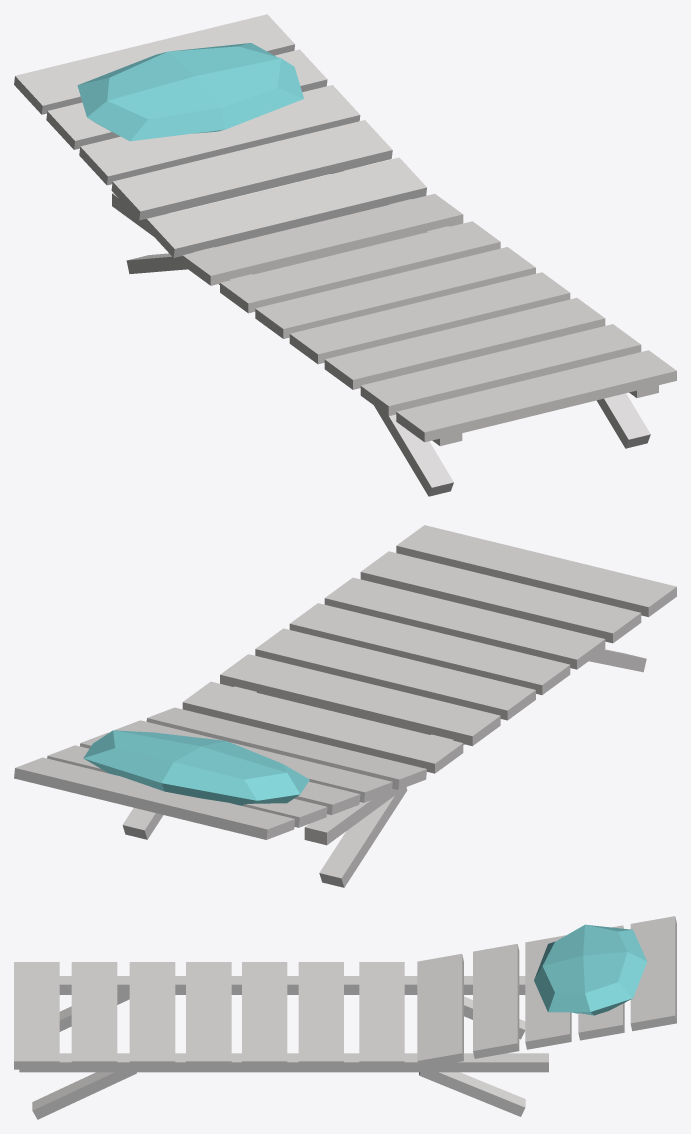
File: O_Enviroment_LoungeChair_1.fbx
3 views of the same model, one above another, from view 1: azimuth 30°, elevation 25°; view 2: azimuth 150°, elevation 25°; view 3: azimuth 270°, elevation 25° (orthographic). The views are drawn at different scales.
Parts seen in each view (by area): view 1: pCube24; view 2: pCube24; view 3: pCube24.
Boxes of the visible parts, left/top/right/bottom form: pCube24: left=14, top=14, right=676, bottom=496; pCube24: left=14, top=525, right=676, bottom=887; pCube24: left=14, top=916, right=676, bottom=1119.
Bounding box in the file's own units: 2 × 1.15 × 5.63.
